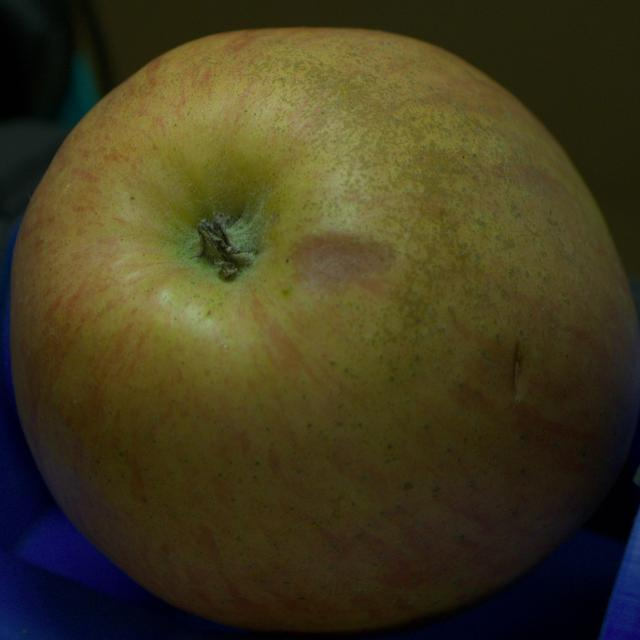apple: (10, 28, 639, 632)
bruise: (289, 234, 396, 287)
scratch: (512, 342, 522, 399)
